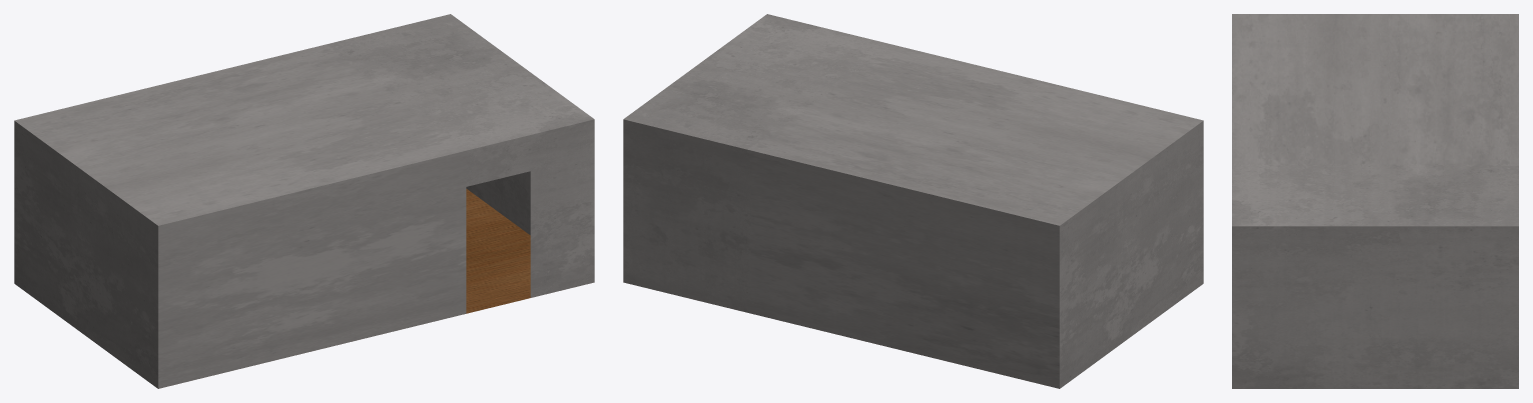
Rendered from XRayRomm.fbx.
3 renders of one model, left to right at view 1: azimuth 30°, elevation 25°; view 2: azimuth 150°, elevation 25°; view 3: azimuth 270°, elevation 25°, orthographic.
Parts seen in each view (by area): view 1: xRayRoom; view 2: xRayRoom; view 3: xRayRoom.
Boxes of the visible parts, x1,y1,x2,y2 form: xRayRoom: [14, 14, 594, 388]; xRayRoom: [623, 14, 1203, 388]; xRayRoom: [1232, 14, 1518, 388].
Size of the model in its own units: 7 by 2.5 by 4.
